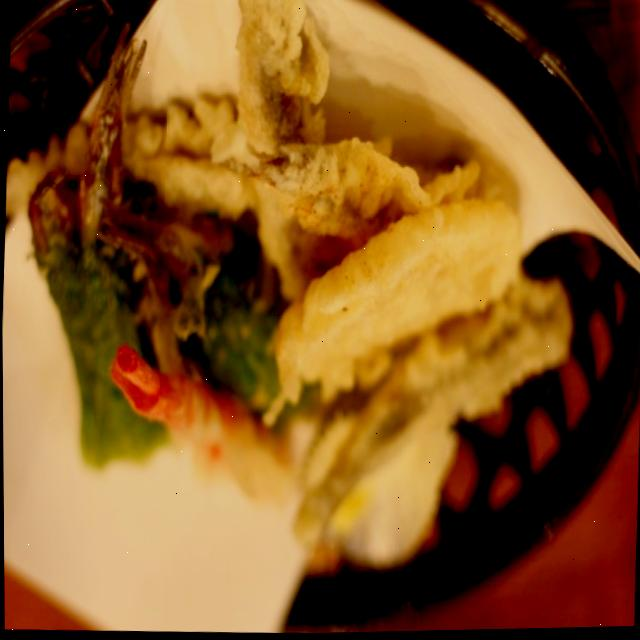蔬菜料理: (31, 0, 576, 582)
